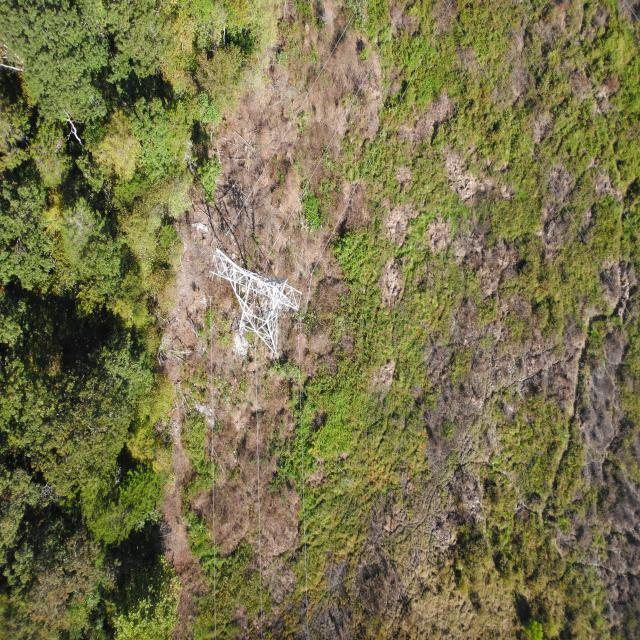Area of Interest: (4, 7, 274, 633)
